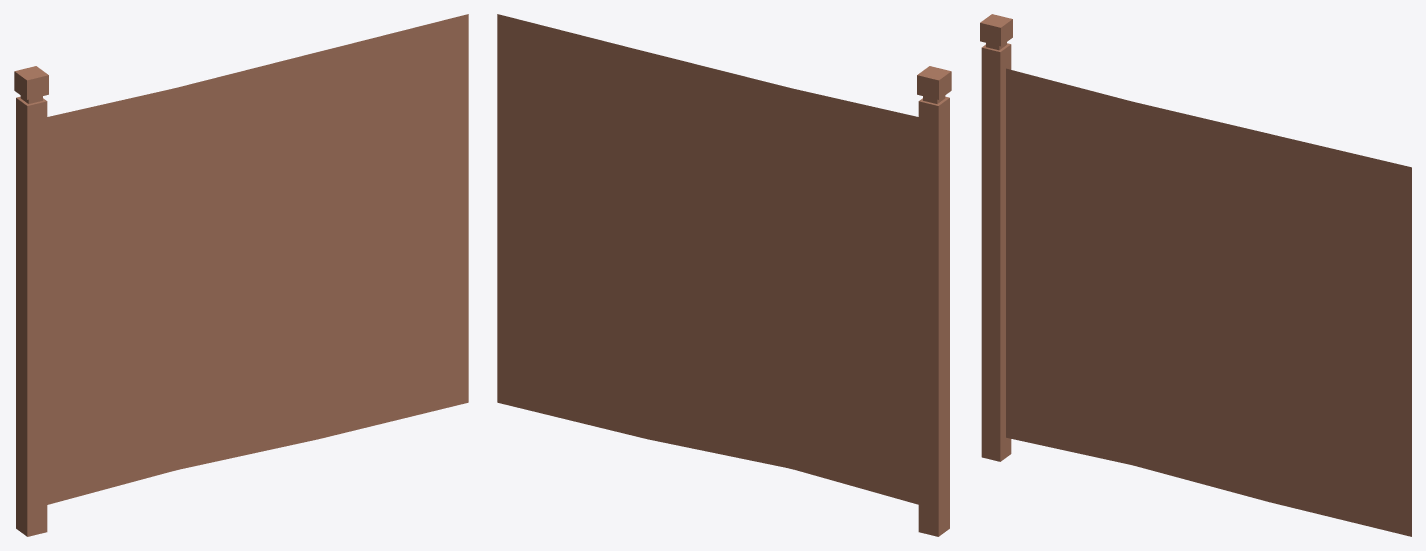
The model's file is Fence_Tall_A.fbx.
3 renders of one model, left to right at view 1: azimuth 30°, elevation 25°; view 2: azimuth 150°, elevation 25°; view 3: azimuth 330°, elevation 25°, orthographic. The views are drawn at different scales.
Visible parts, largest first — view 1: Fence_Tall_A.001; view 2: Fence_Tall_A.001; view 3: Fence_Tall_A.001.
Boxes of the visible parts, bbox=[...] form: Fence_Tall_A.001: bbox=[14, 14, 468, 536]; Fence_Tall_A.001: bbox=[497, 14, 951, 536]; Fence_Tall_A.001: bbox=[980, 14, 1411, 536].
Bounding box in the file's own units: 205 × 200 × 10.
